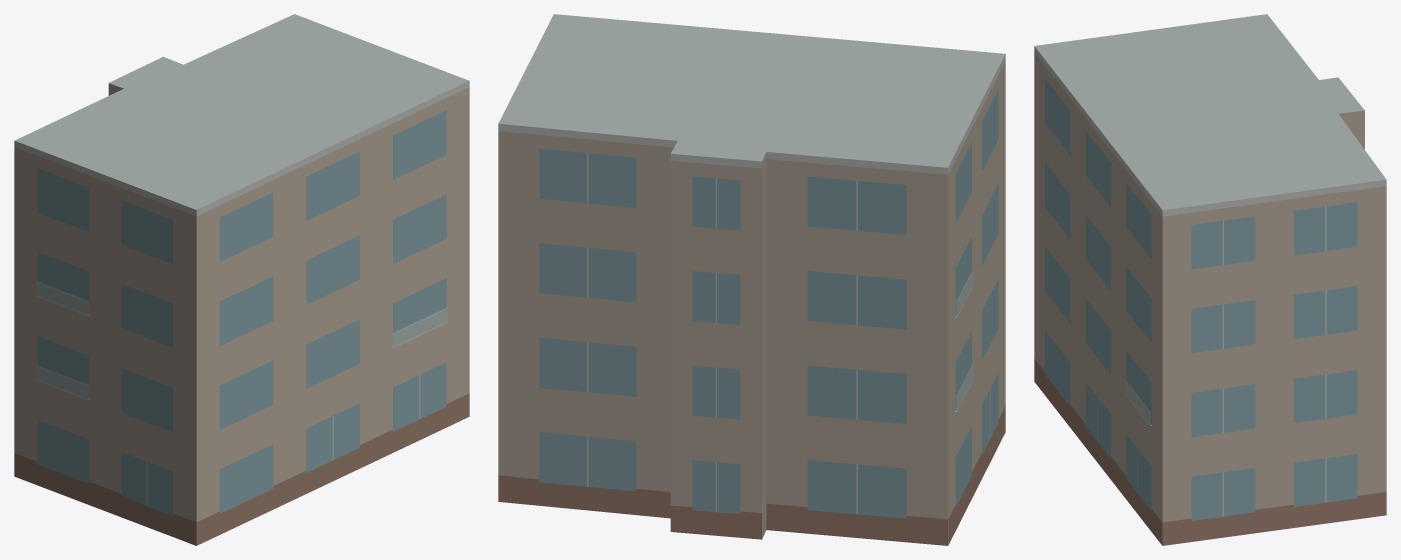
Rendered from survey-upis-32914412.glb.
3 renders of one model, left to right at view 1: azimuth 30°, elevation 25°; view 2: azimuth 150°, elevation 25°; view 3: azimuth 270°, elevation 25°, orthographic. The views are drawn at different scales.
Parts seen in each view (by area): view 1: survey-upis-32914412.tmp; view 2: survey-upis-32914412.tmp; view 3: survey-upis-32914412.tmp.
Boxes of the visible parts, box(x1,y1,x2,y2) form: survey-upis-32914412.tmp: box(14, 14, 469, 545); survey-upis-32914412.tmp: box(498, 14, 1005, 545); survey-upis-32914412.tmp: box(1034, 14, 1386, 545).
Bounding box in the file's own units: 16.24 × 12.94 × 12.32.
